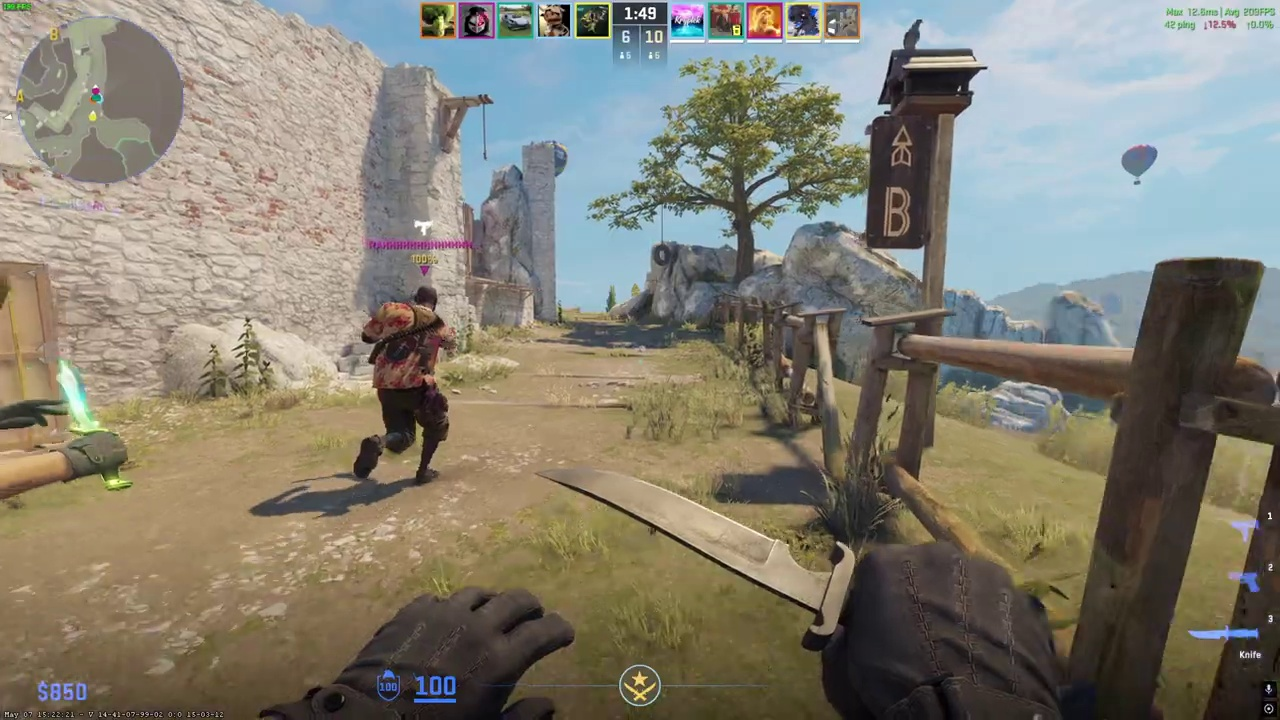Terrorist: (355, 283, 459, 487)
